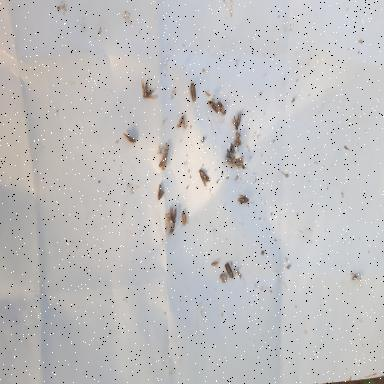pbw: (141, 78, 157, 100), (196, 169, 210, 189), (228, 156, 246, 170), (225, 262, 238, 280), (208, 100, 221, 114), (177, 115, 187, 133), (123, 133, 137, 145), (234, 131, 244, 147), (238, 194, 250, 206), (217, 101, 227, 115), (181, 211, 189, 228), (190, 82, 196, 103), (158, 183, 164, 201), (231, 116, 238, 130), (234, 138, 240, 152), (237, 111, 242, 126), (211, 262, 219, 268)
